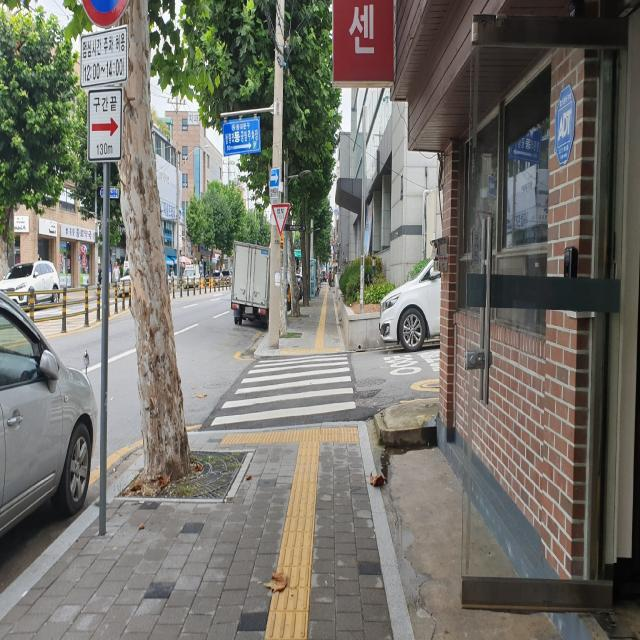횡단보도: (210, 353, 356, 427)
